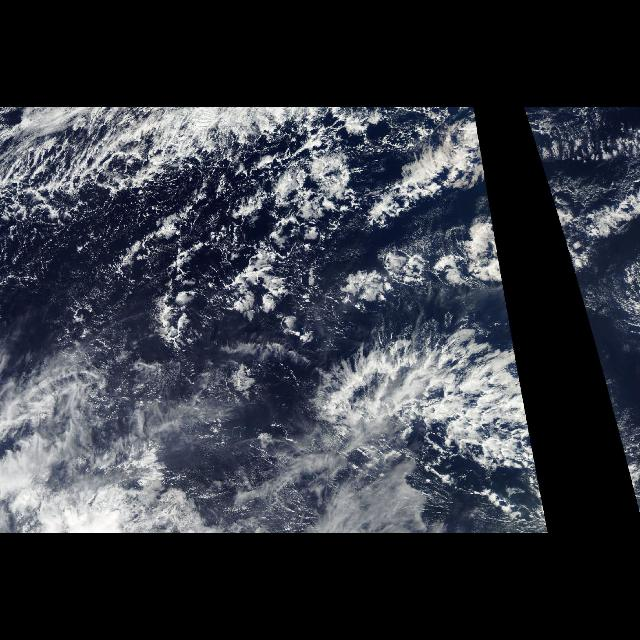Fish: (276, 313, 548, 533), (584, 314, 594, 344)
Gravel: (74, 163, 300, 314)
